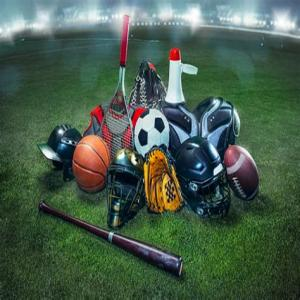Basket: (73, 135, 110, 188)
Football: (134, 111, 166, 157)
Rugby: (224, 145, 263, 203)
